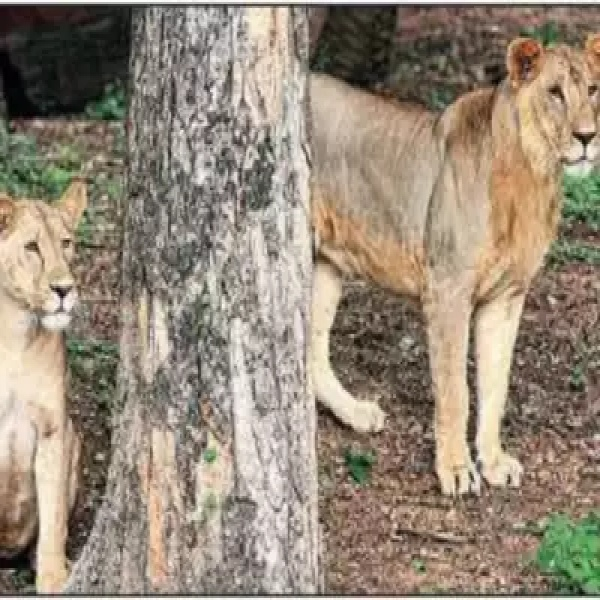Lion: (310, 36, 600, 502), (1, 174, 91, 593)
